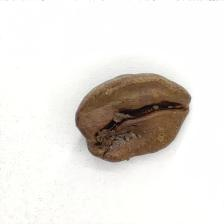NG: (88, 97, 190, 161)
